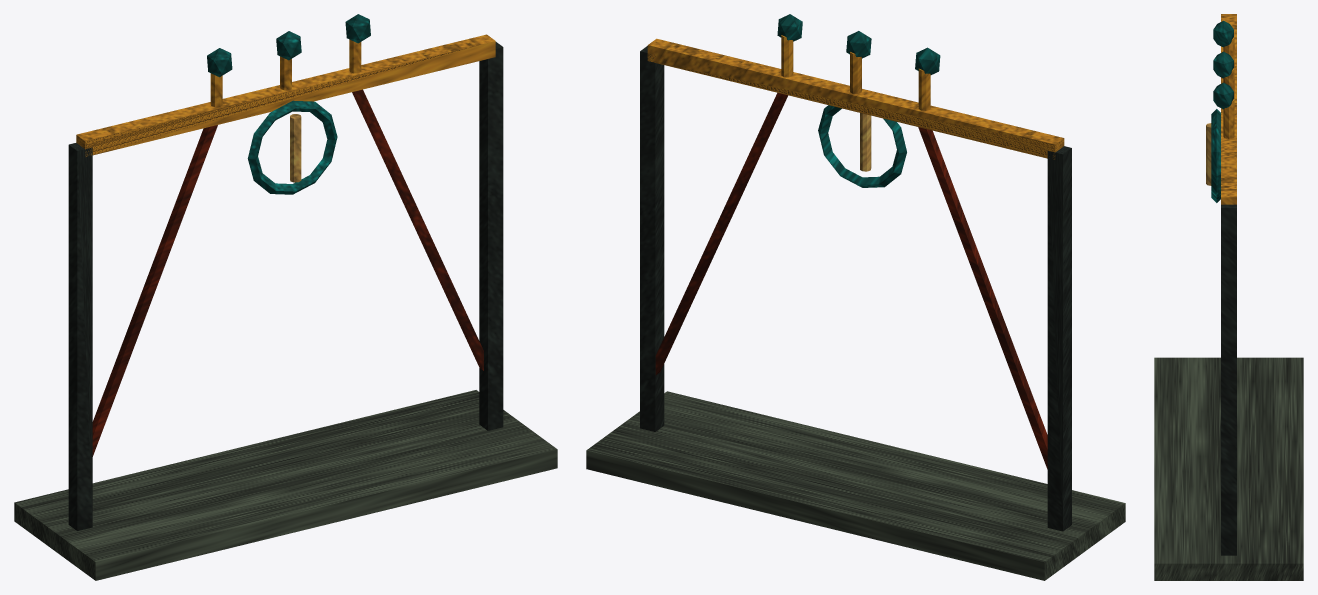
Rendered from rush-relay-r3-frame.glb.
3 views of the same model, side by side, from view 1: azimuth 30°, elevation 25°; view 2: azimuth 150°, elevation 25°; view 3: azimuth 270°, elevation 25° (orthographic). The views are drawn at different scales.
Visible parts, largest first — view 1: rush-relay-r3-frame; view 2: rush-relay-r3-frame; view 3: rush-relay-r3-frame.
Boxes of the visible parts, x1,y1,x2,y2 form: rush-relay-r3-frame: [14, 14, 557, 580]; rush-relay-r3-frame: [586, 14, 1125, 580]; rush-relay-r3-frame: [1154, 14, 1303, 580].
Size of the model in its own units: 7.2 by 6.94 by 2.2.
1 material, 1 textured.
